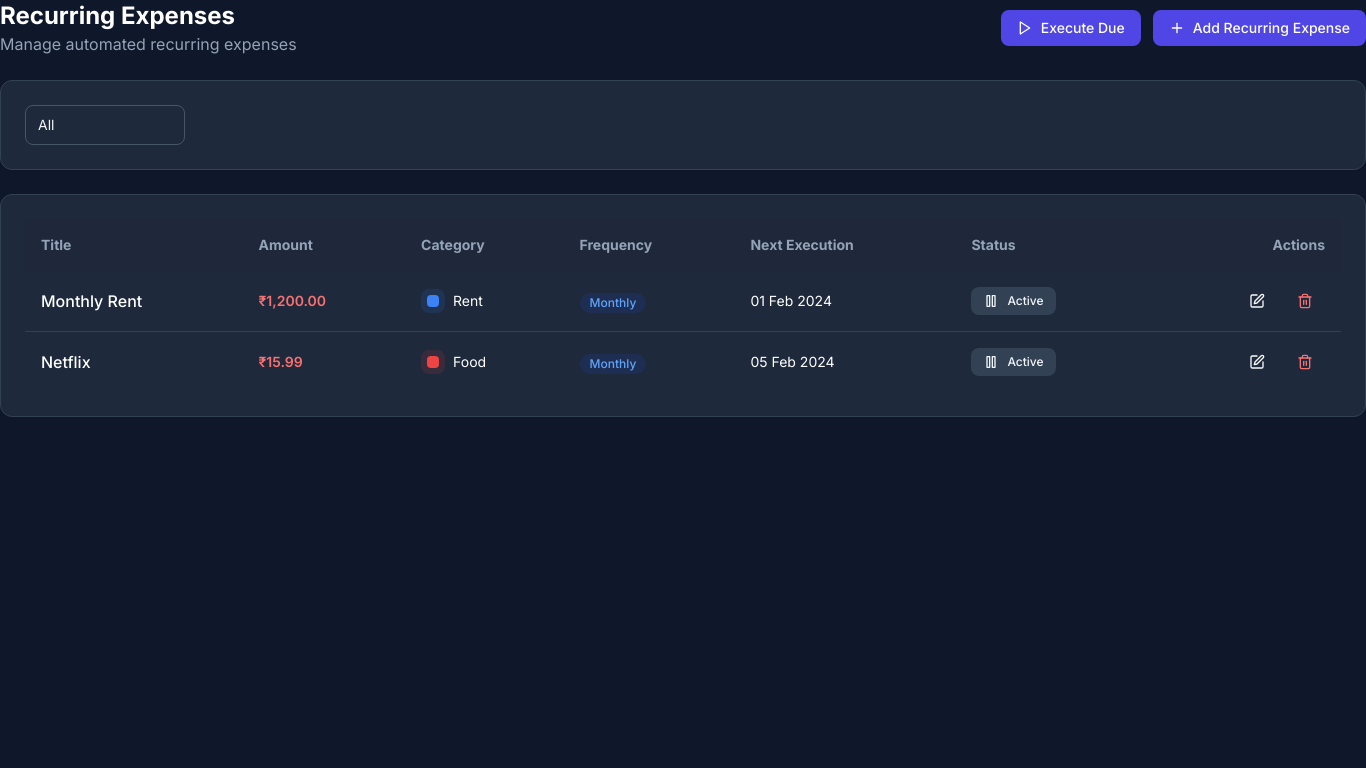
Recurring Expenses Page › opens the form on add click
Expected: the text "Monthly Rent" is shown, [41, 291, 142, 311]
Step 1. Click the button "Add Recurring Expense" → (1259, 28), box [1153, 10, 1365, 46]
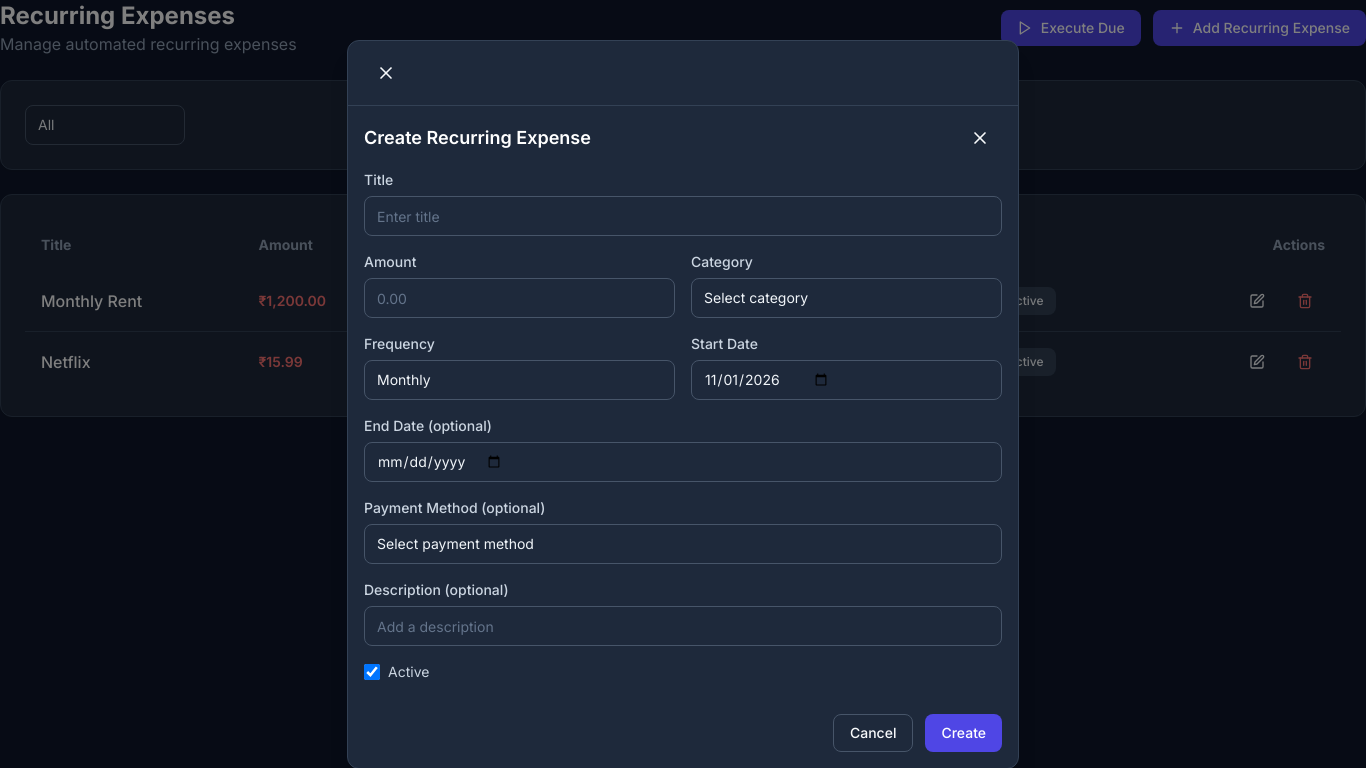
Now the heading "Create Recurring Expense" is shown, box [364, 124, 591, 152]
Now the field labelled "Title" is shown, box [364, 196, 1002, 236]
Now the number field labelled "Amount" is shown, box [364, 278, 675, 318]
